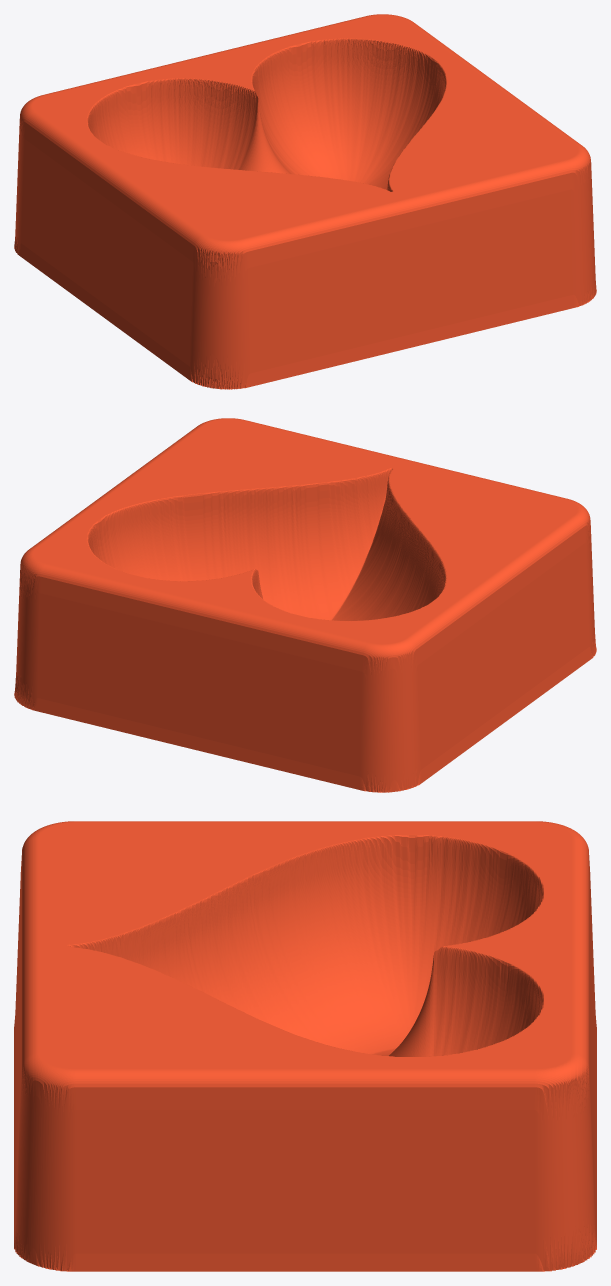
Rendered from mold.glb.
The picture shows the model from 3 angles, top to bottom: view 1: azimuth 30°, elevation 25°; view 2: azimuth 150°, elevation 25°; view 3: azimuth 270°, elevation 25°; orthographic projection. The views are drawn at different scales.
Visible parts, largest first — view 1: geometry_0; view 2: geometry_0; view 3: geometry_0.
Boxes of the visible parts, left/top/right/bottom form: geometry_0: left=14, top=14, right=596, bottom=389; geometry_0: left=14, top=418, right=596, bottom=792; geometry_0: left=14, top=821, right=596, bottom=1271.
Bounding box in the file's own units: 0.0924 × 0.031 × 0.0852.
